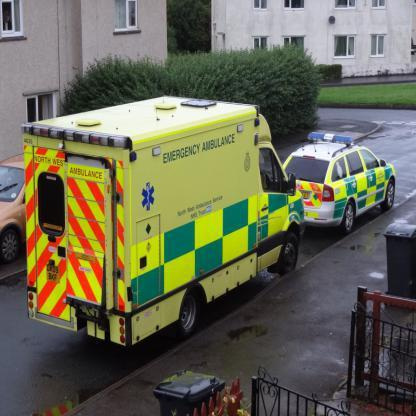Ambulance - v1 Ambulance last generate: (20, 92, 306, 347)
